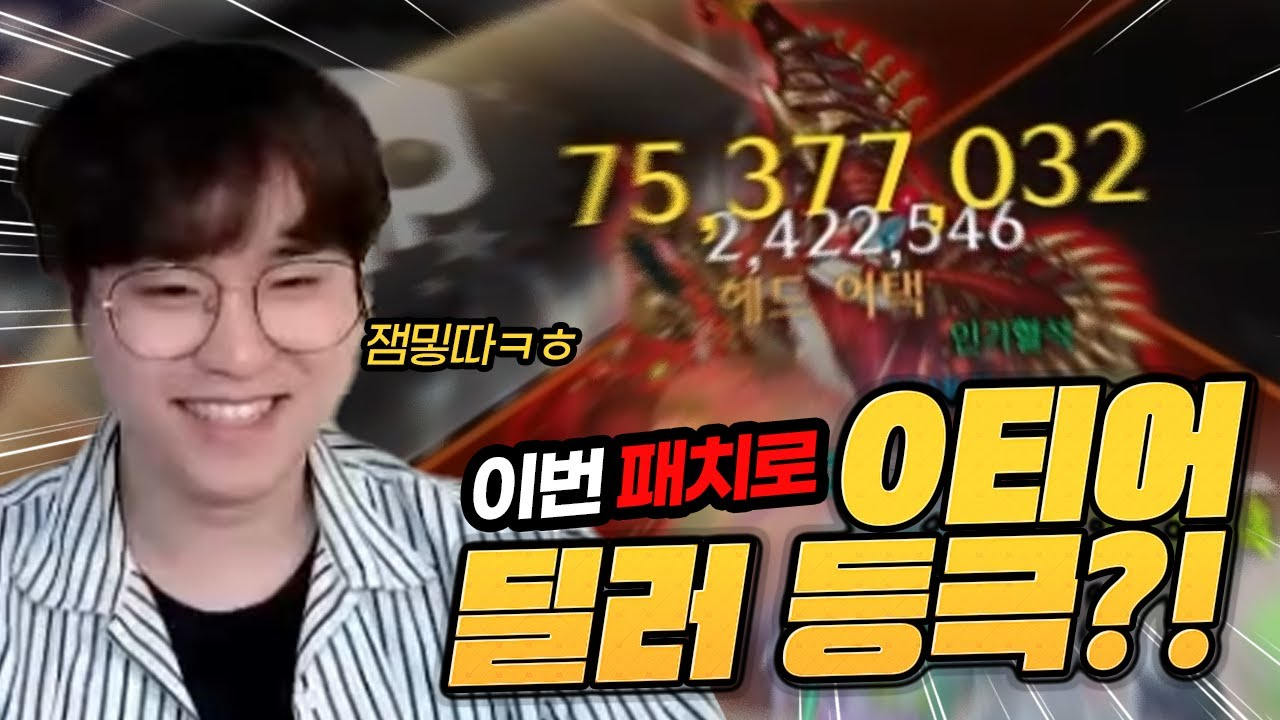0티어: (831, 371, 1249, 530)
등극?!: (772, 531, 1236, 690)
딜러: (441, 534, 760, 698)
이번: (459, 433, 612, 533)
잼밓따ㅋㅎ: (360, 317, 583, 369)
패치로: (614, 416, 829, 518)
